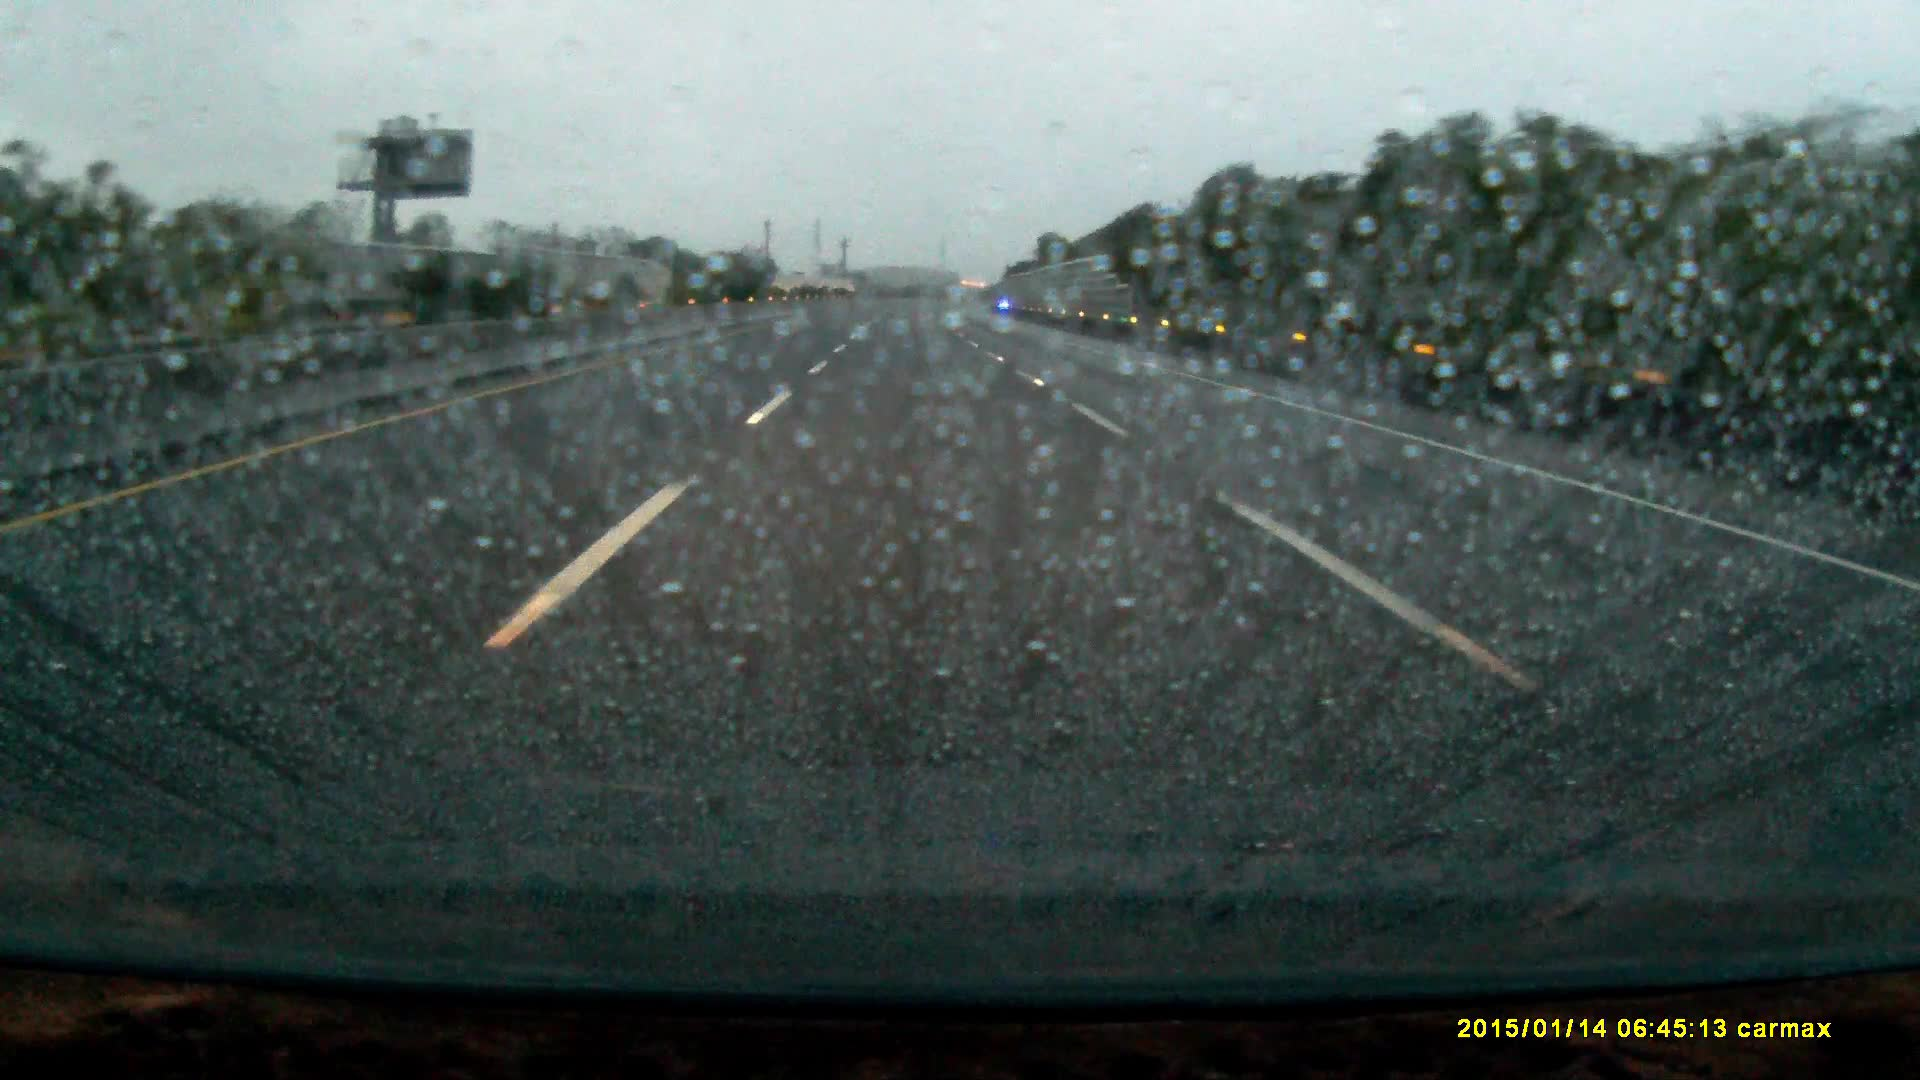vehicle: (196, 280, 339, 328)
